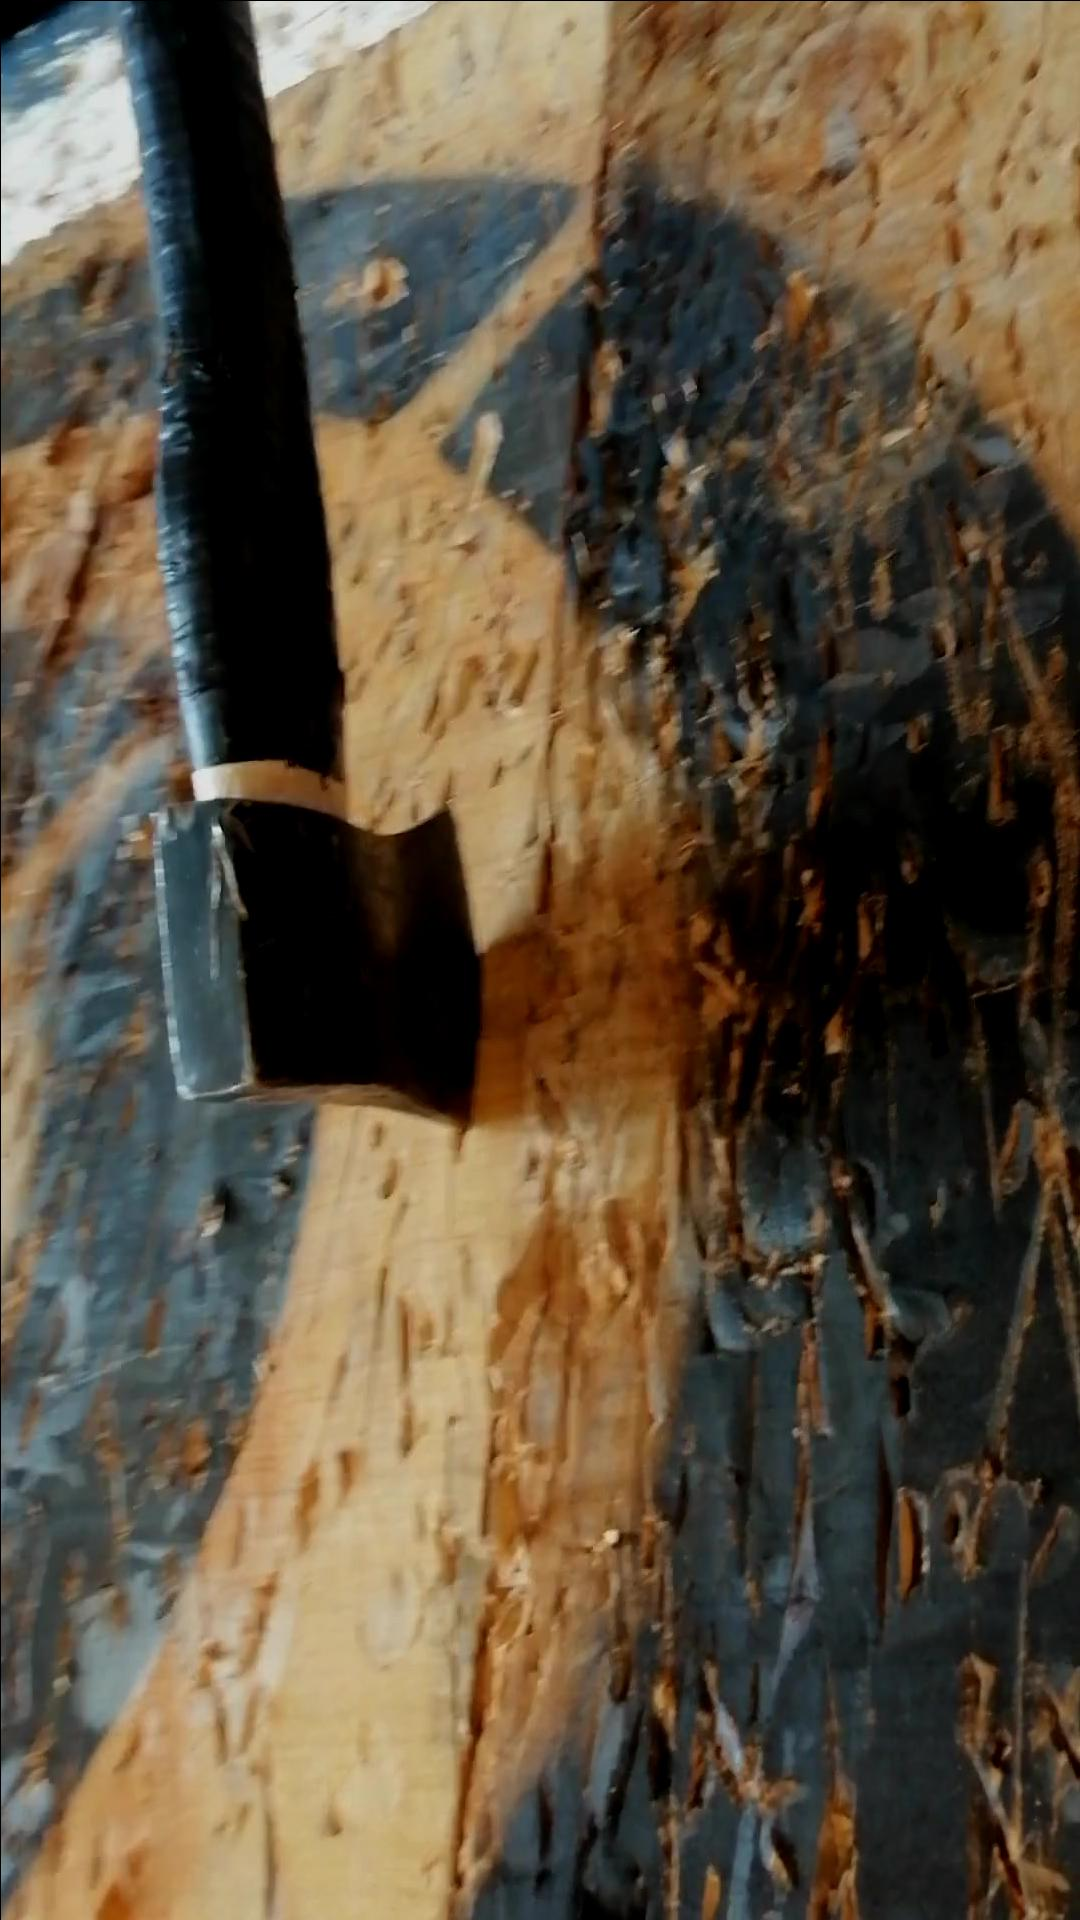Hand Axe: (145, 790, 489, 1130)
